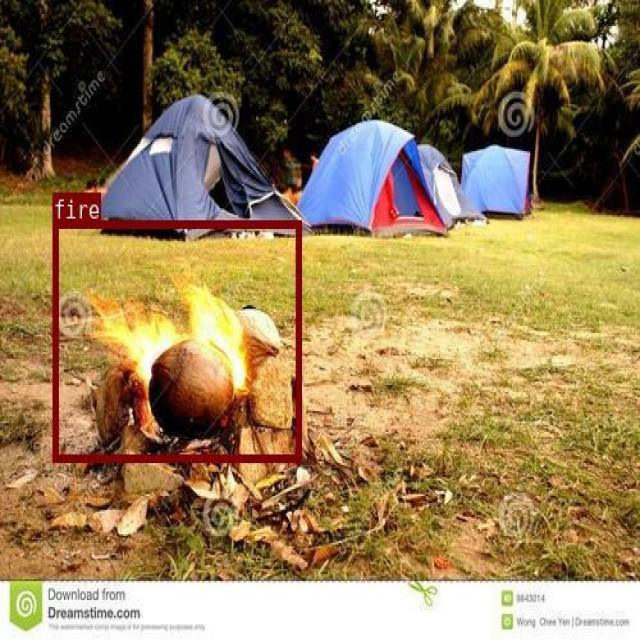fire: (52, 219, 300, 461)
